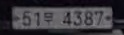51부4387: (19, 7, 106, 28)
